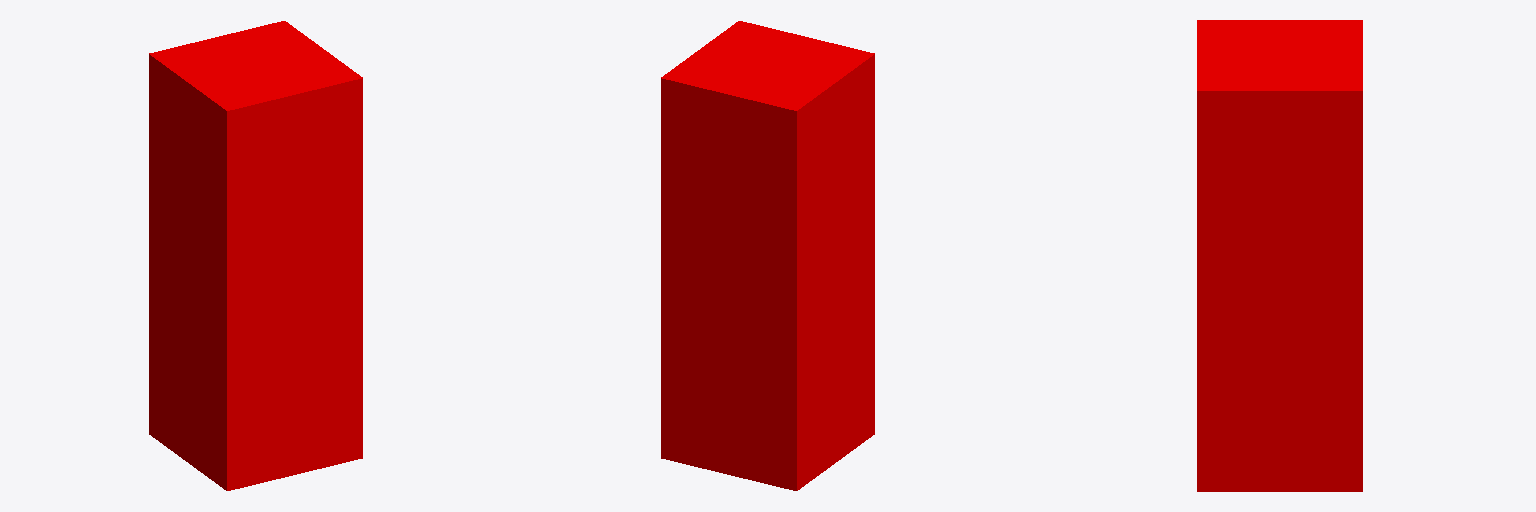
robot.urdf — test_robot:
<robot name="test_robot">
    <link name="base_link"/>

    <joint name="body_joint" type="fixed">
        <parent link="base_link"/>
        <child link="body_link"/>
    </joint>
    <link name="body_link">
        <visual>
            <geometry>
                <box size="0.3 0.3 0.8"/>
            </geometry>
            <origin xyz="0 0 0" rpy="0 0 0"/>
            <material name="red">
                <color rgba="1.0 0.0 0.0 1.0"/>
            </material>
        </visual>
    </link>
</robot>

--- What the picture shows (computed from the rendered views, not written in the file) ---
Views: 3 orthographic renders of the robot side by side, from view 1: azimuth 30°, elevation 25°; view 2: azimuth 150°, elevation 25°; view 3: azimuth 270°, elevation 25°.
Model test_robot with 2 links and 1 joints (1 fixed), rooted at base_link, posed every joint at zero.
Visible links, largest first — view 1: body_link; view 2: body_link; view 3: body_link.
Link boxes in pixels (x1,y1,x2,y2): body_link: (149,21,362,490); body_link: (661,21,874,490); body_link: (1197,20,1362,491).
Bounding box of the posed robot: 0.3 × 0.3 × 0.8 m (x, y, z).
Geometry: primitives only (box / cylinder / sphere), no mesh files.